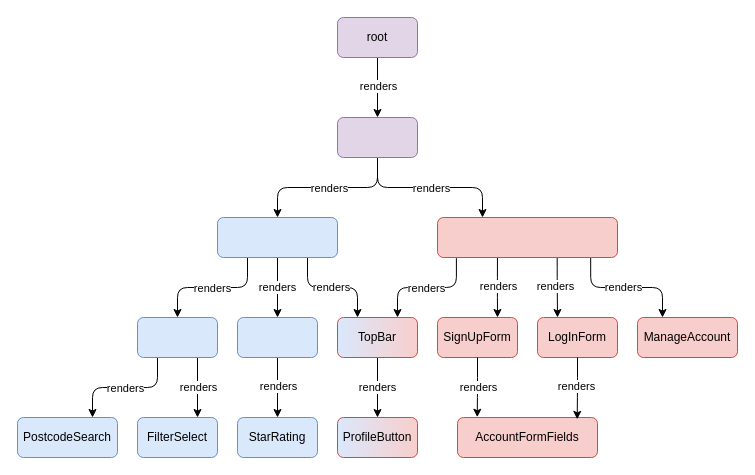
Some shapes in this 755 by 475 pixel diagram are drawn without their labels. The shapes that lost their labels are listed below. From the top down, each one's box as (x1, y1, x2, y2) in pixels, then its label:
(336, 116, 418, 158): App
(216, 216, 338, 258): PlacesPage
(436, 216, 618, 258): AccountPage
(136, 316, 218, 358): FilterBar
(236, 316, 318, 358): PlaceCard
